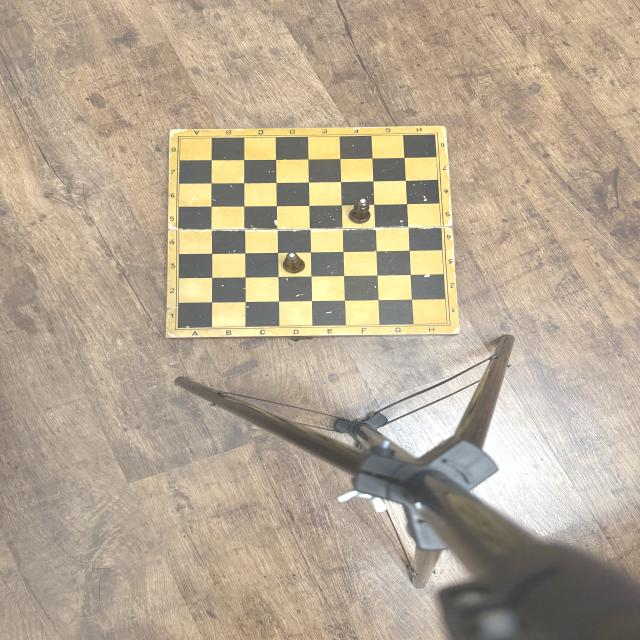black-king: (283, 252, 305, 274)
black-queen: (349, 198, 371, 225)
